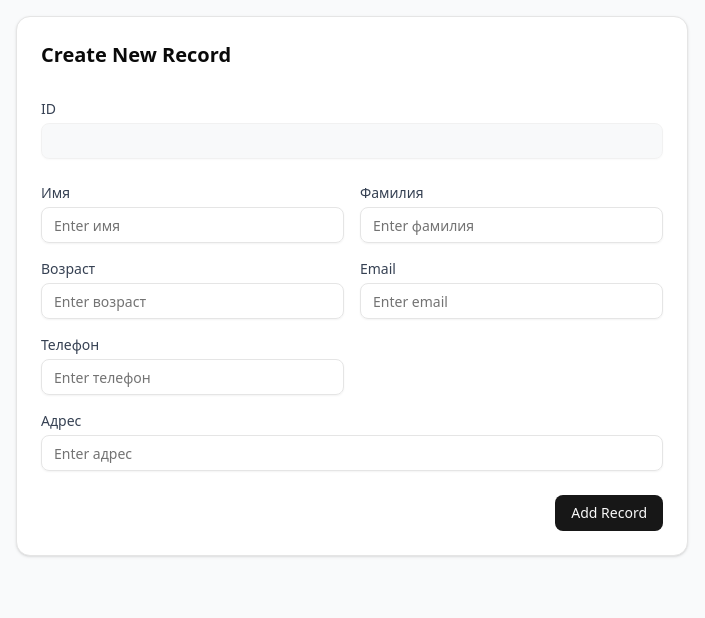
Scenario: CreateRecordPage – простые тесты › показывает ошибку, если нажать «Add Record» без заполнения First Name
This screenshot has width=705, height=618.
Click the button "Add Record" at [609, 513], box [555, 495, 663, 531]
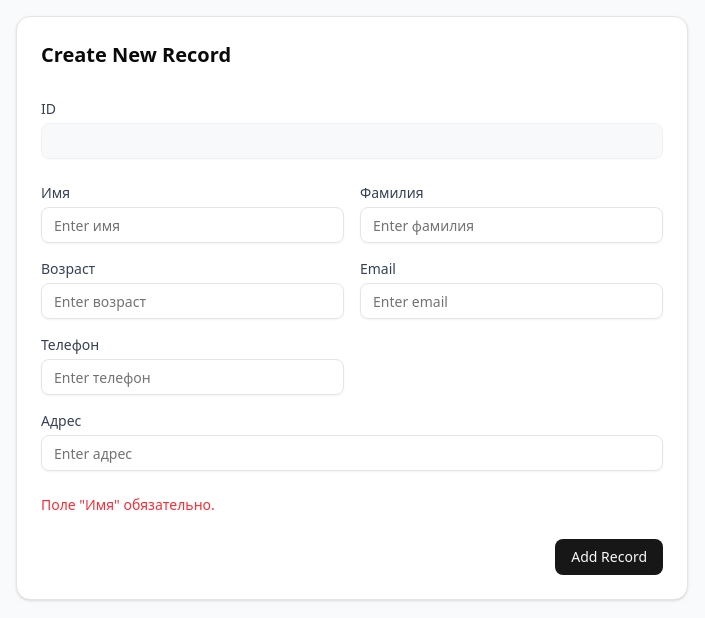
Result: the text "Поле \"Имя\" обязательно." is shown at [41, 495, 215, 514]
